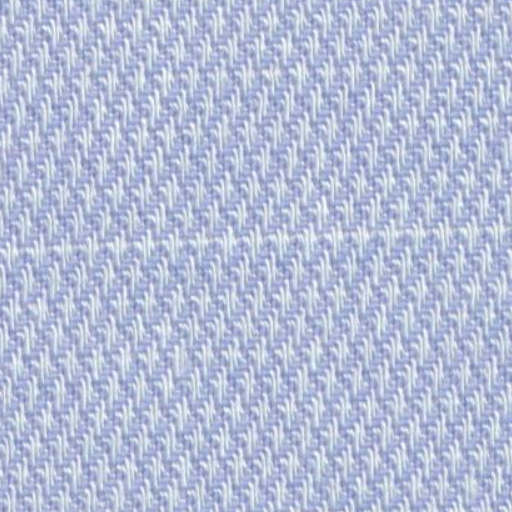TuoSha: (10, 206, 500, 290)
